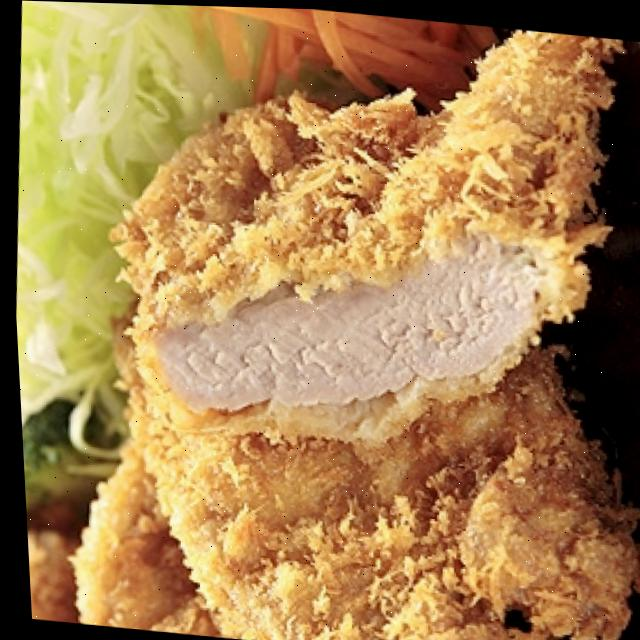牛肉菜式: (9, 0, 640, 640)
